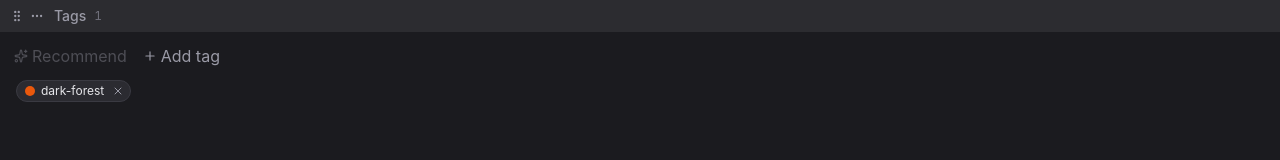
TagsPanel (F-4.4, the tags column) › removing a chip unlinks it and moves the usage count in the bank
Click the button named "Remove dark-forest": (118, 91) top-left (110, 83), bottom-right (126, 99)
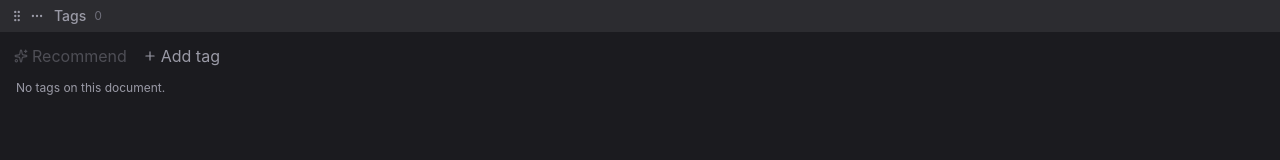
Now no list items are shown
Now the text "No tags on this document." is shown, box top-left (16, 80), bottom-right (165, 95)
Now the heading "Tags 0" is shown, box top-left (54, 6), bottom-right (102, 26)
